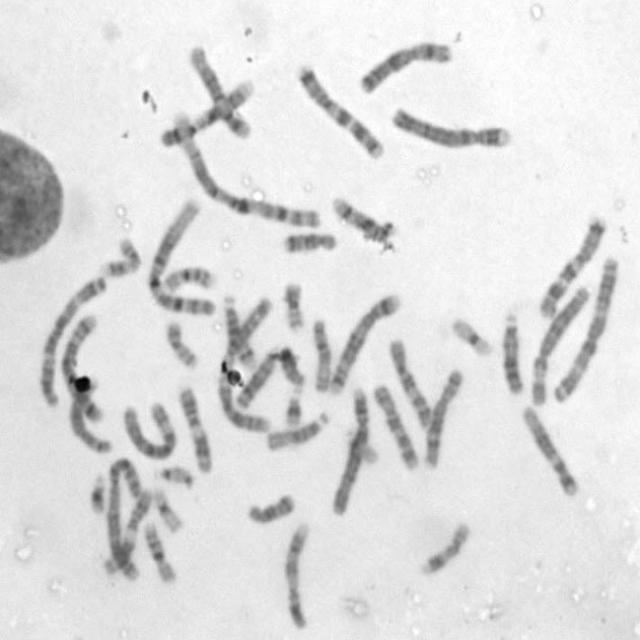A1: (168, 108, 324, 229), (145, 196, 219, 317)
A2: (217, 293, 274, 434), (106, 456, 143, 584)
A3: (552, 256, 620, 406), (36, 274, 106, 409)
B4: (390, 105, 513, 149), (329, 386, 370, 518)
B5: (328, 293, 402, 394), (58, 312, 107, 425)
C10: (370, 383, 420, 474), (386, 338, 433, 428)
C11: (100, 487, 154, 580), (178, 385, 213, 475)
C12: (188, 44, 252, 140), (520, 404, 581, 498)
C6: (528, 285, 592, 407), (122, 401, 176, 462)
C7: (295, 62, 386, 160), (536, 214, 610, 320)
C8: (422, 367, 466, 471), (69, 381, 114, 454)
C9: (158, 77, 258, 149), (281, 521, 313, 631)
D13: (235, 344, 280, 411), (501, 311, 527, 396)
D14: (220, 294, 258, 372), (329, 195, 396, 239)
D15: (264, 411, 332, 452), (312, 318, 333, 393)
E16: (142, 520, 178, 584), (164, 265, 215, 294)
E17: (417, 520, 472, 576), (99, 236, 143, 277)
E18: (246, 493, 297, 527), (284, 230, 338, 256)
F19: (450, 317, 494, 360), (151, 485, 184, 533)
F20: (164, 320, 199, 370), (283, 282, 308, 330)
G21: (89, 472, 107, 515), (283, 393, 303, 426)
G22: (343, 426, 380, 466), (159, 463, 194, 492)
X: (357, 40, 455, 96)
Y: (281, 353, 308, 388)
